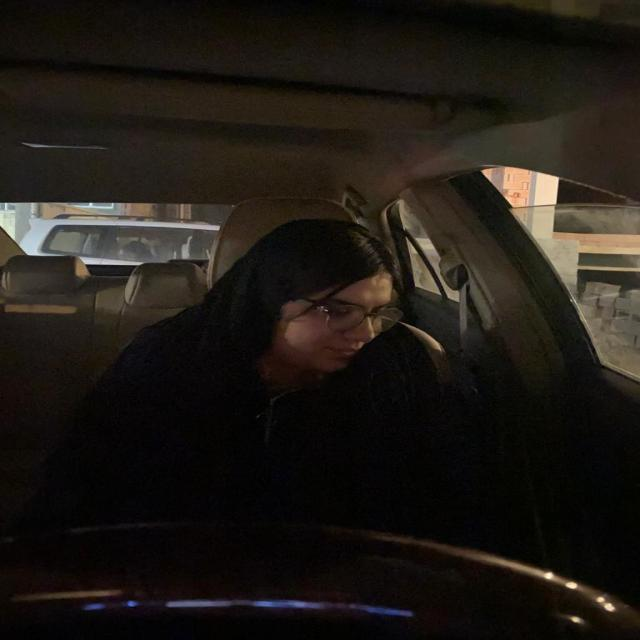drowsy: (259, 225, 392, 373)
